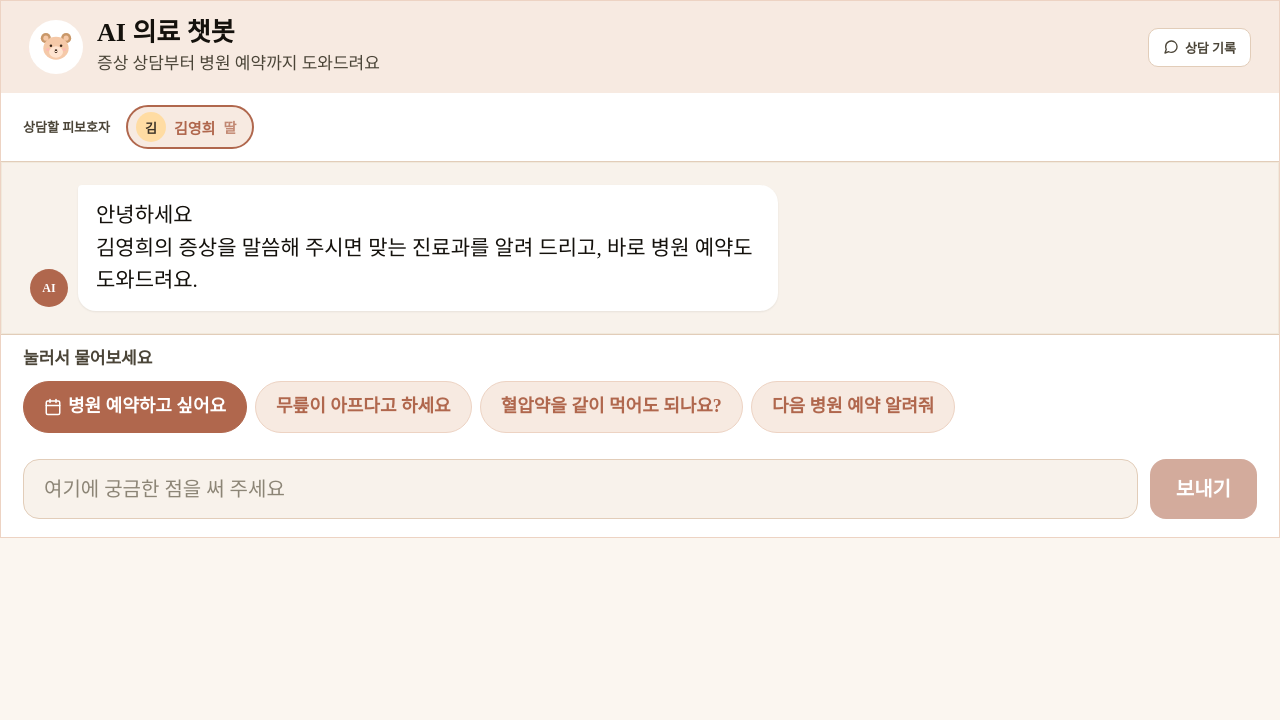
Test case: 보호자 AI 의료 챗봇 › 답을 기다리는 중에는 예약 칩도 누를 수 없다
Click the button "무릎이 아프다고 하세요": (363, 407) [255,381,472,433]
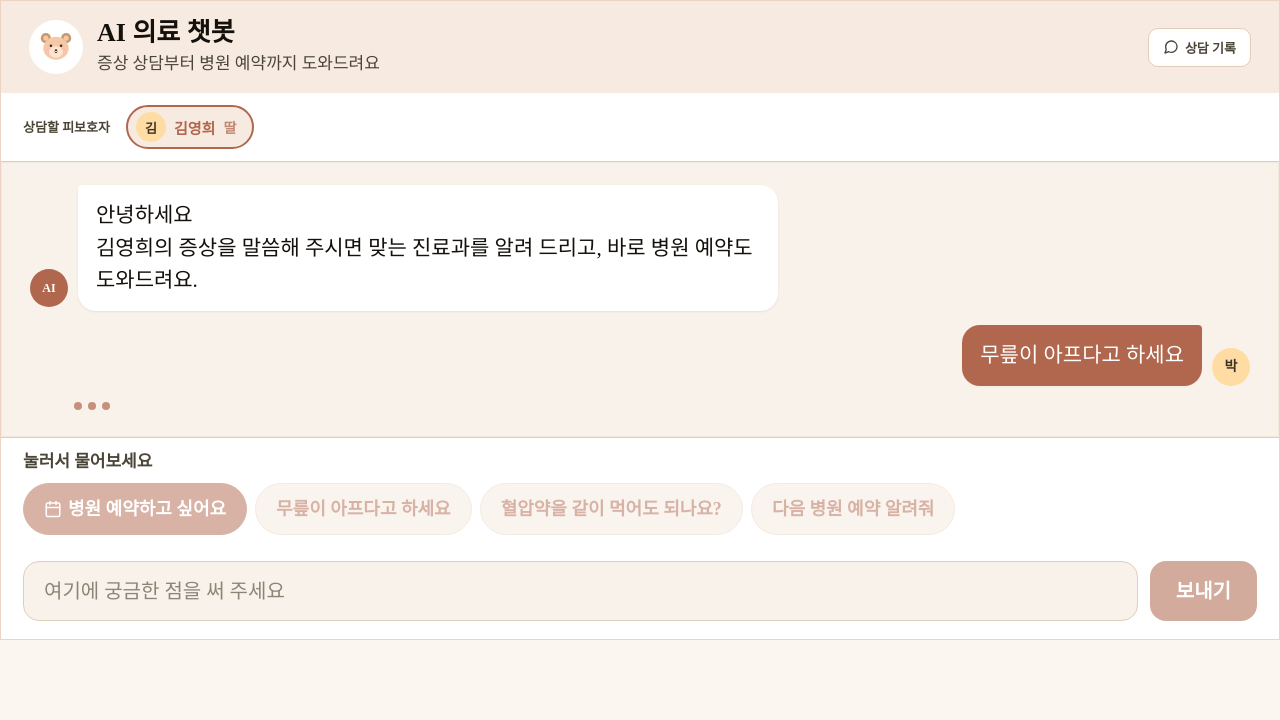
Now the button "병원 예약하고 싶어요" is disabled, box [23,483,247,535]
